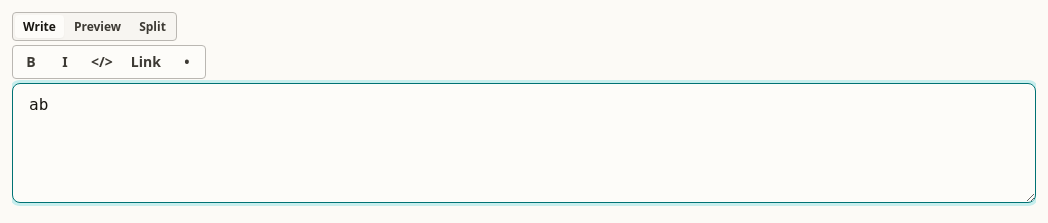
MarkdownField toolbar › inserts at the caret when nothing is selected
Click the button named "Code" at (102, 62), box [83,48,121,76]
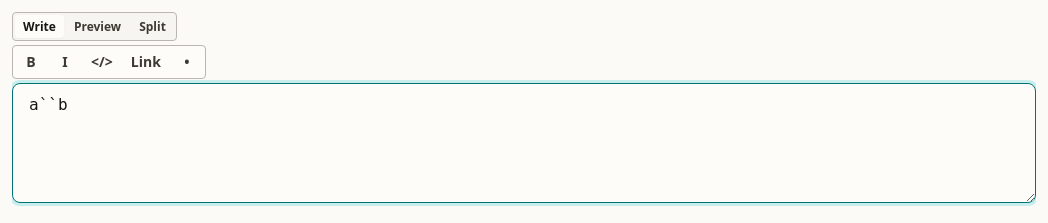
Now the text box holds "a``b", box [12,83,1036,203]
